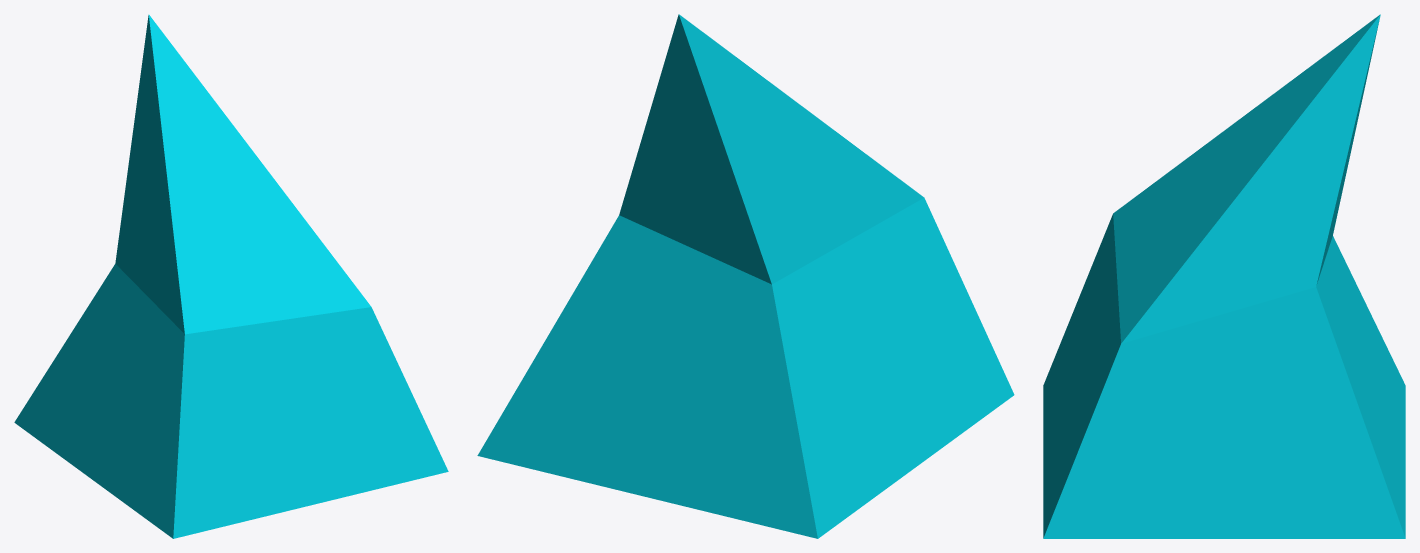
File: waveIcicle.glb
3 views of the same model, side by side, from view 1: azimuth 30°, elevation 25°; view 2: azimuth 150°, elevation 25°; view 3: azimuth 270°, elevation 25° (orthographic). The views are drawn at different scales.
Visible parts, largest first — view 1: Cube; view 2: Cube; view 3: Cube.
Boxes of the visible parts, x1,y1,x2,y2 form: Cube: [14, 14, 448, 538]; Cube: [477, 14, 1014, 538]; Cube: [1043, 14, 1405, 538].
Bounding box in the file's own units: 2 × 2.68 × 2.
